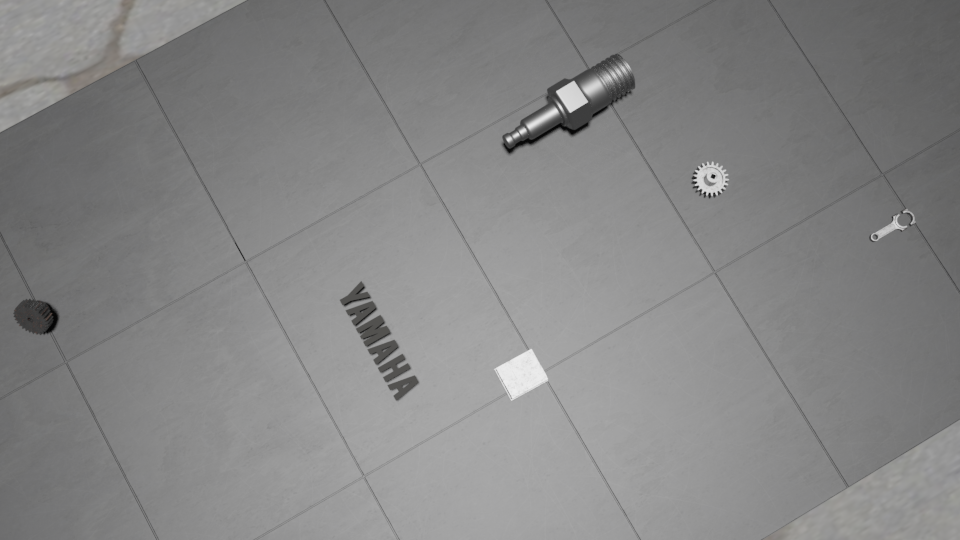yamaha_letters: (339, 280, 419, 401)
